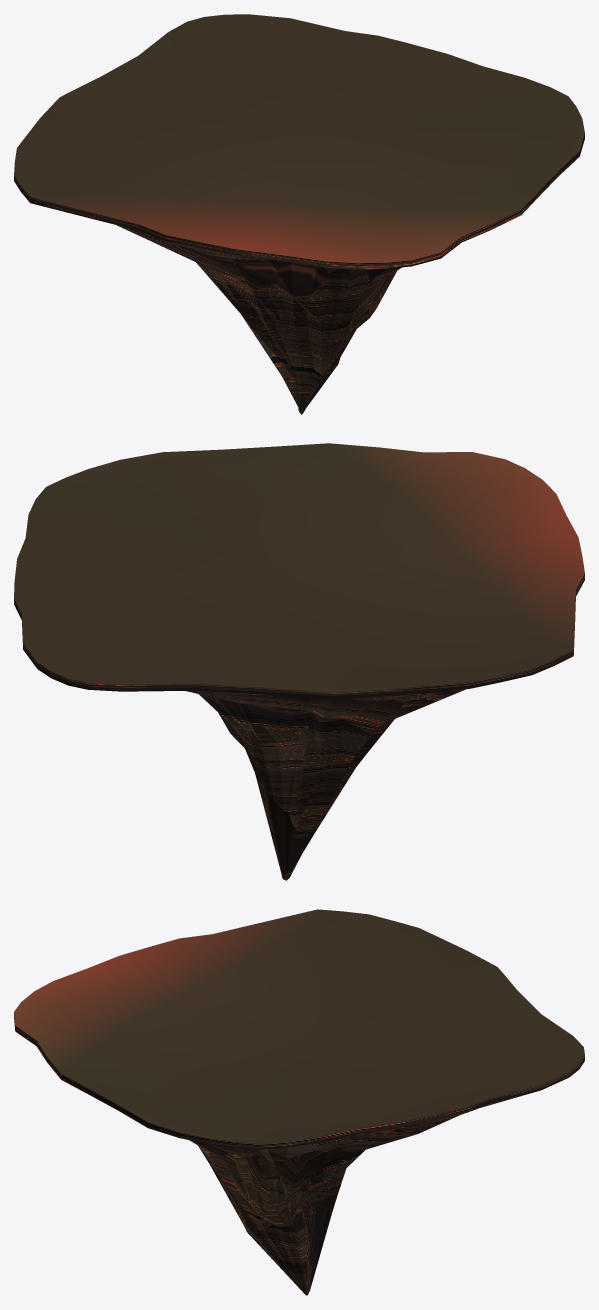
The model's file is FirstBossRock.fbx.
3 renders of one model, top to bottom at view 1: azimuth 30°, elevation 25°; view 2: azimuth 150°, elevation 25°; view 3: azimuth 270°, elevation 25°, orthographic. The views are drawn at different scales.
Parts seen in each view (by area): view 1: Rock to attack; view 2: Rock to attack; view 3: Rock to attack.
Boxes of the visible parts, <box> form: Rock to attack: <box>14,14,584,414</box>; Rock to attack: <box>14,443,584,880</box>; Rock to attack: <box>14,909,584,1295</box>.
Size of the model in its own units: 4270 by 2236 by 4394.
